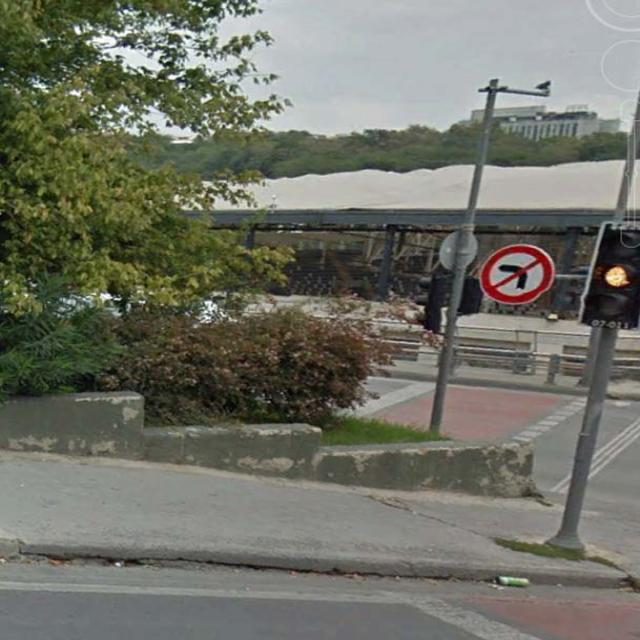sari: (578, 221, 640, 329)
soladonulmez: (480, 244, 554, 304)
